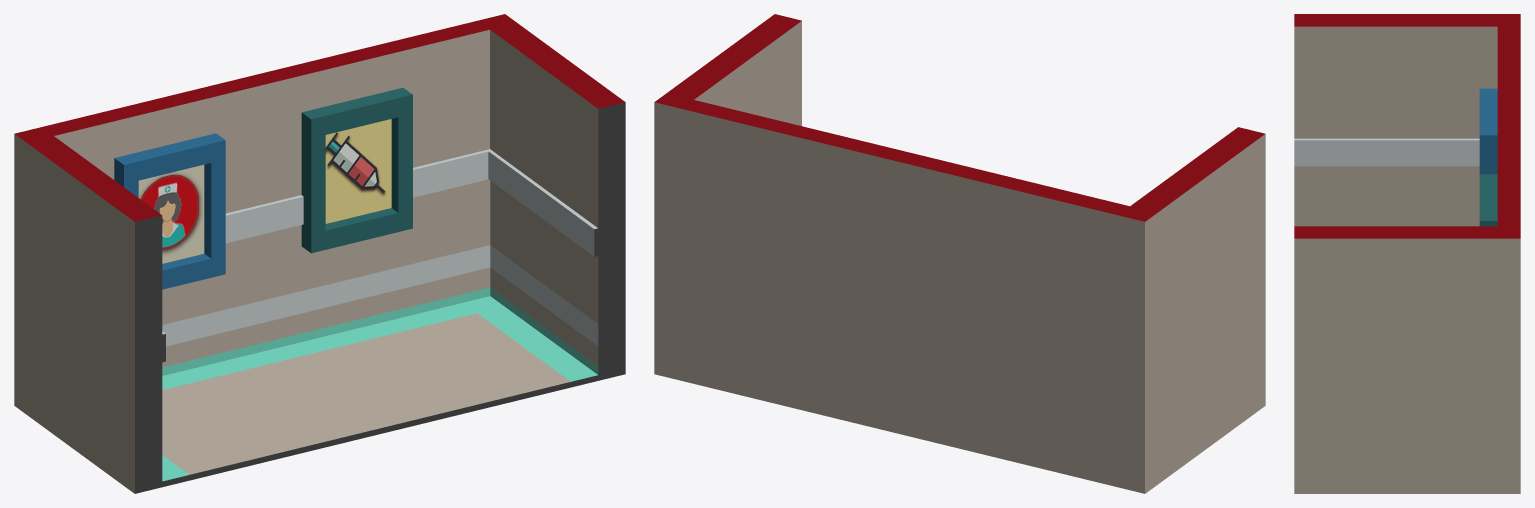
File: closingwall.fbx
3 views of the same model, side by side, from view 1: azimuth 30°, elevation 25°; view 2: azimuth 150°, elevation 25°; view 3: azimuth 270°, elevation 25° (orthographic). The views are drawn at different scales.
Visible parts, largest first — view 1: closingwall; view 2: closingwall; view 3: closingwall.
Boxes of the visible parts, x1,y1,x2,y2 form: closingwall: [14, 14, 625, 493]; closingwall: [654, 14, 1265, 493]; closingwall: [1294, 14, 1520, 493].
Bounding box in the file's own units: 446 × 236 × 189.
